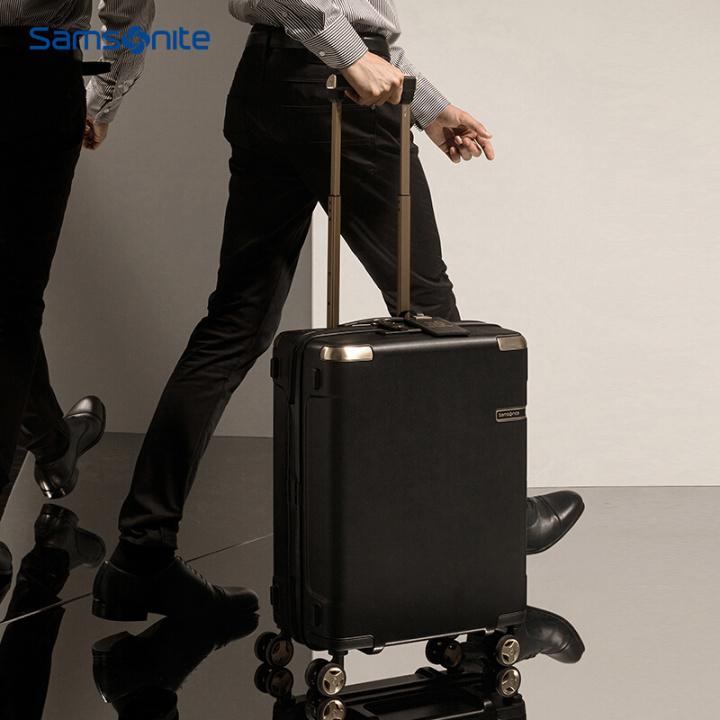box: (272, 321, 527, 655)
wheel: (304, 658, 346, 696), (254, 632, 295, 668), (484, 634, 521, 667)
